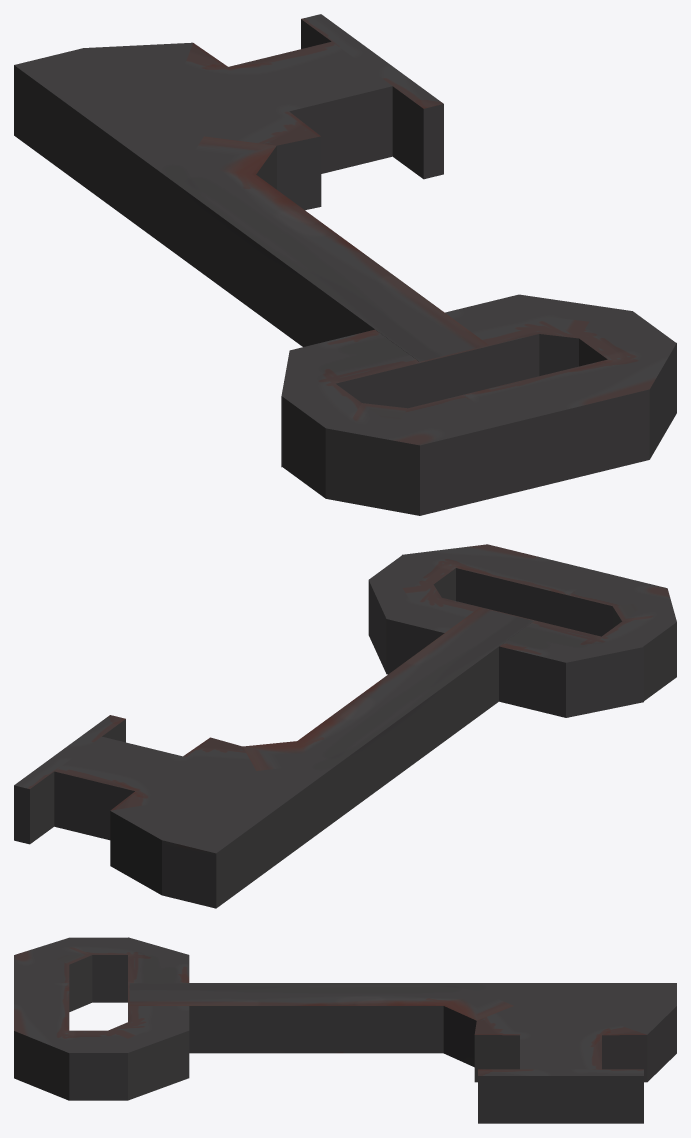
The model's file is Key.glb.
The picture shows the model from 3 angles, top to bottom: view 1: azimuth 30°, elevation 25°; view 2: azimuth 150°, elevation 25°; view 3: azimuth 270°, elevation 25°; orthographic projection. The views are drawn at different scales.
Parts seen in each view (by area): view 1: Cube; view 2: Cube; view 3: Cube.
Part boxes in pixels (x1,y1,x2,y2): Cube: (14, 14, 676, 515); Cube: (14, 544, 676, 908); Cube: (14, 937, 676, 1123).
Bounding box in the file's own units: 1.88 × 0.3003 × 3.78.
Materials: 1 (1 with a texture image).
